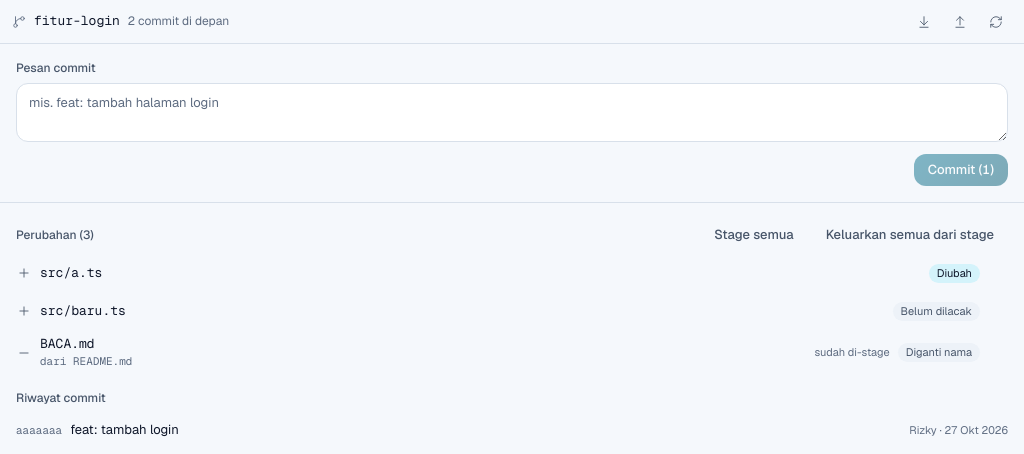
GitPanel › berkas biner tidak menampilkan isi
Click the button "src/a.ts Diubah" at x=71, y=273, box [40,256,984,292]
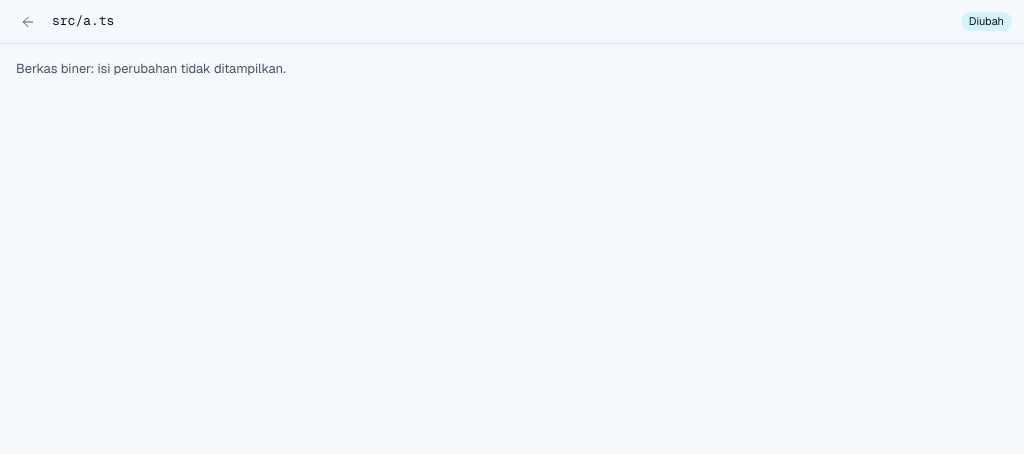
Expected: the text "Berkas biner: isi perubahan tidak ditampilkan." is shown, [16,60,286,77]
